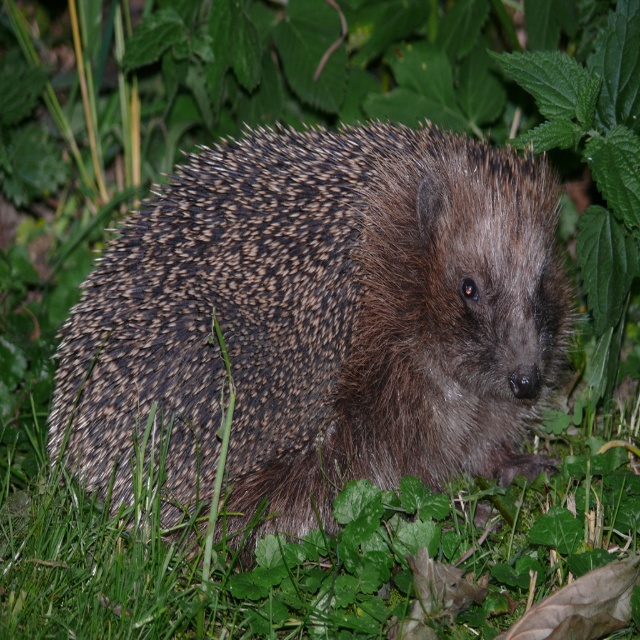Hedgehog: (45, 115, 600, 569)
